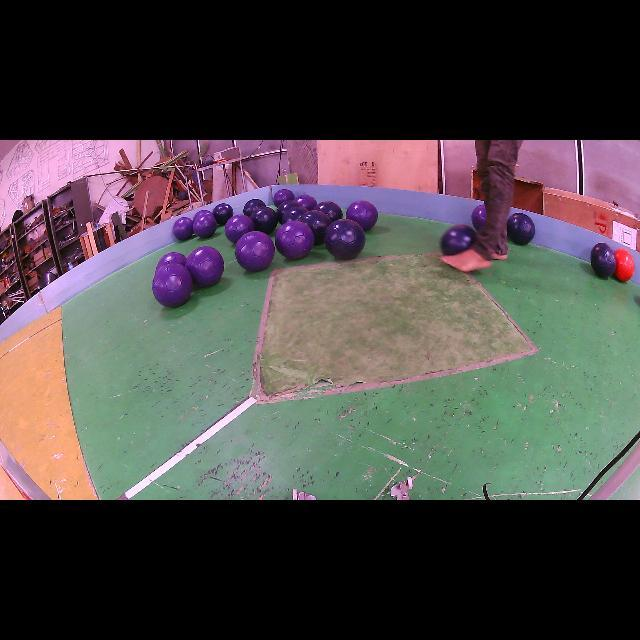B: (324, 219, 365, 259), (298, 210, 331, 244), (440, 225, 476, 255), (506, 212, 535, 245), (590, 242, 616, 278), (250, 206, 278, 234), (314, 201, 342, 221), (276, 200, 301, 221), (281, 206, 308, 224), (212, 204, 234, 225), (244, 199, 266, 216)
P: (152, 264, 192, 308), (185, 246, 224, 288), (235, 231, 275, 271), (275, 221, 315, 259), (346, 200, 378, 231), (225, 215, 255, 244), (192, 210, 218, 239), (156, 252, 186, 269), (172, 218, 194, 240), (274, 189, 295, 208), (295, 195, 318, 210)
R: (614, 249, 635, 281)
